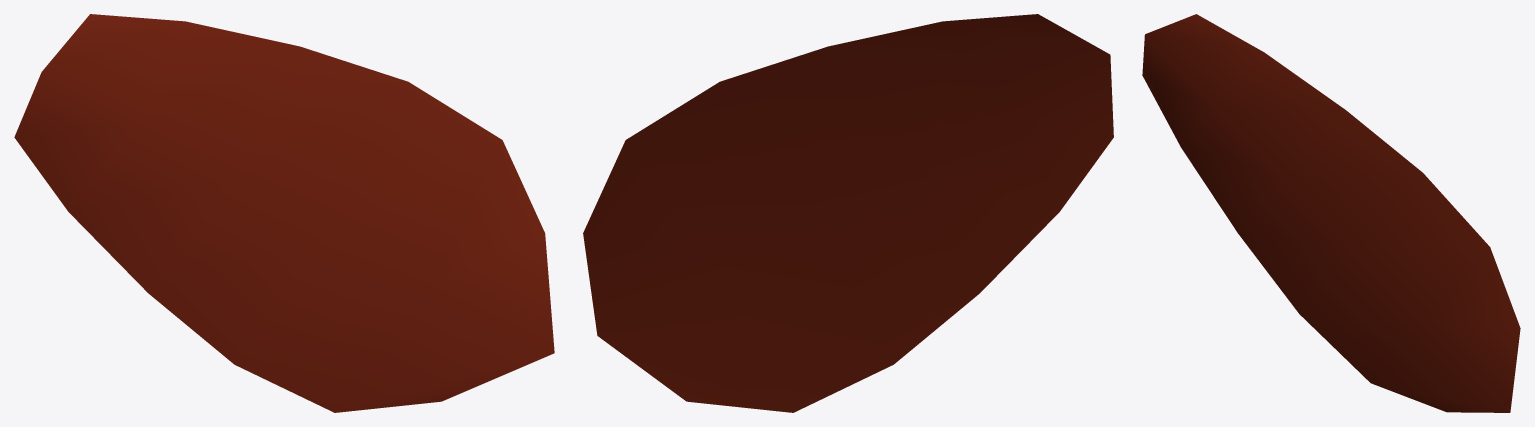
Rendered from pheasant_feather_flight_tertiary_038.obj.
3 renders of one model, left to right at view 1: azimuth 30°, elevation 25°; view 2: azimuth 150°, elevation 25°; view 3: azimuth 330°, elevation 25°, orthographic. The views are drawn at different scales.
Parts seen in each view (by area): view 1: feather_flight_tertiary_038; view 2: feather_flight_tertiary_038; view 3: feather_flight_tertiary_038.
Part boxes in pixels (<box>): feather_flight_tertiary_038: <box>14,14,554,412</box>; feather_flight_tertiary_038: <box>583,14,1113,412</box>; feather_flight_tertiary_038: <box>1142,14,1520,412</box>.
Size of the model in its own units: 0.0163 by 0.0139 by 0.000634.
